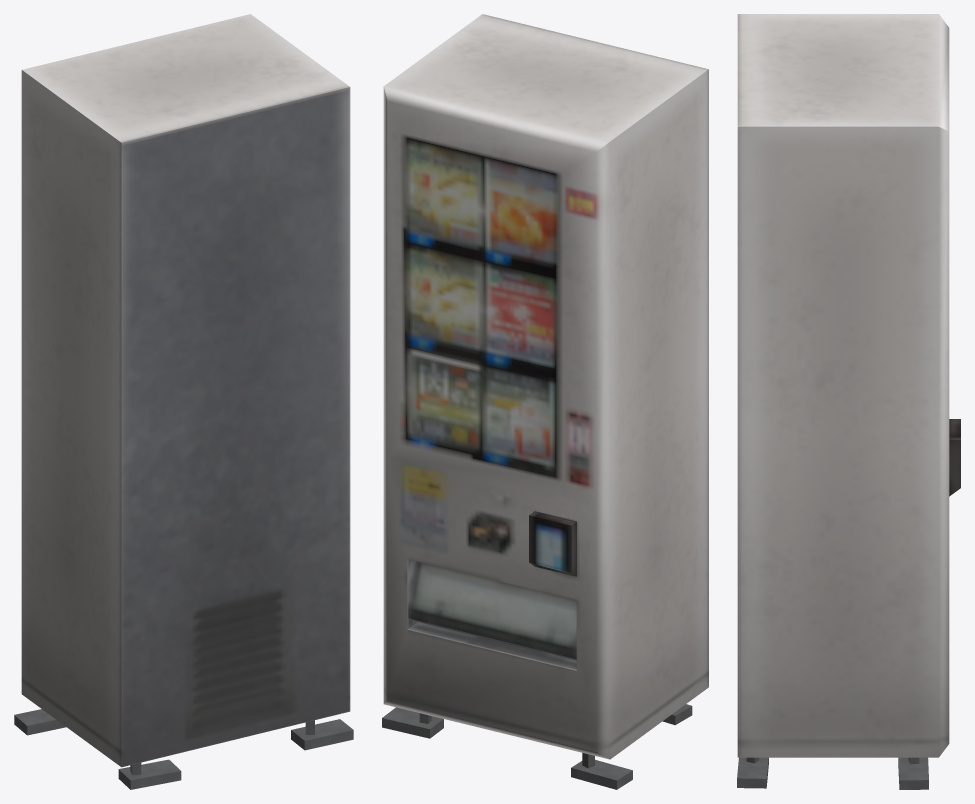
The model's file is StM_VendingMachine_3.fbx.
The picture shows the model from 3 angles, left to right: view 1: azimuth 30°, elevation 25°; view 2: azimuth 150°, elevation 25°; view 3: azimuth 270°, elevation 25°; orthographic projection. The views are drawn at different scales.
Parts seen in each view (by area): view 1: VendingMachine_3; view 2: VendingMachine_3; view 3: VendingMachine_3.
Boxes of the visible parts, bbox=[...] form: VendingMachine_3: bbox=[14, 14, 353, 789]; VendingMachine_3: bbox=[382, 14, 708, 789]; VendingMachine_3: bbox=[737, 14, 960, 789].
Bounding box in the file's own units: 85.24 × 217 × 66.9.
Materials: 1 (1 with a texture image).
